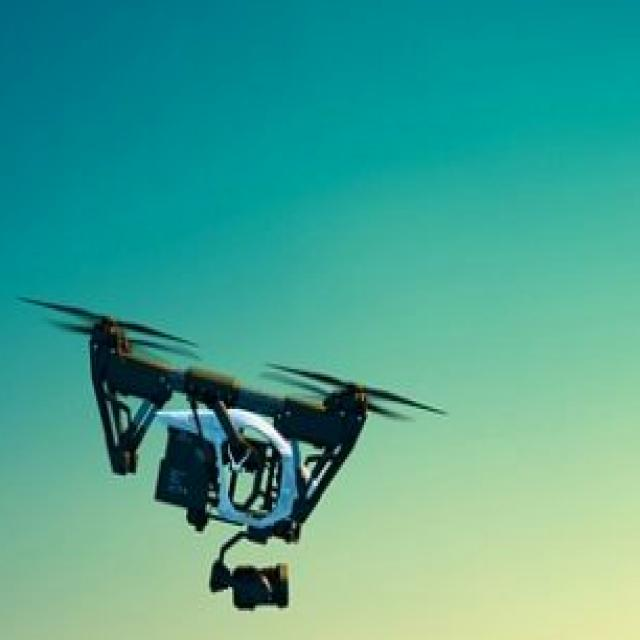drone: (6, 290, 450, 568)
